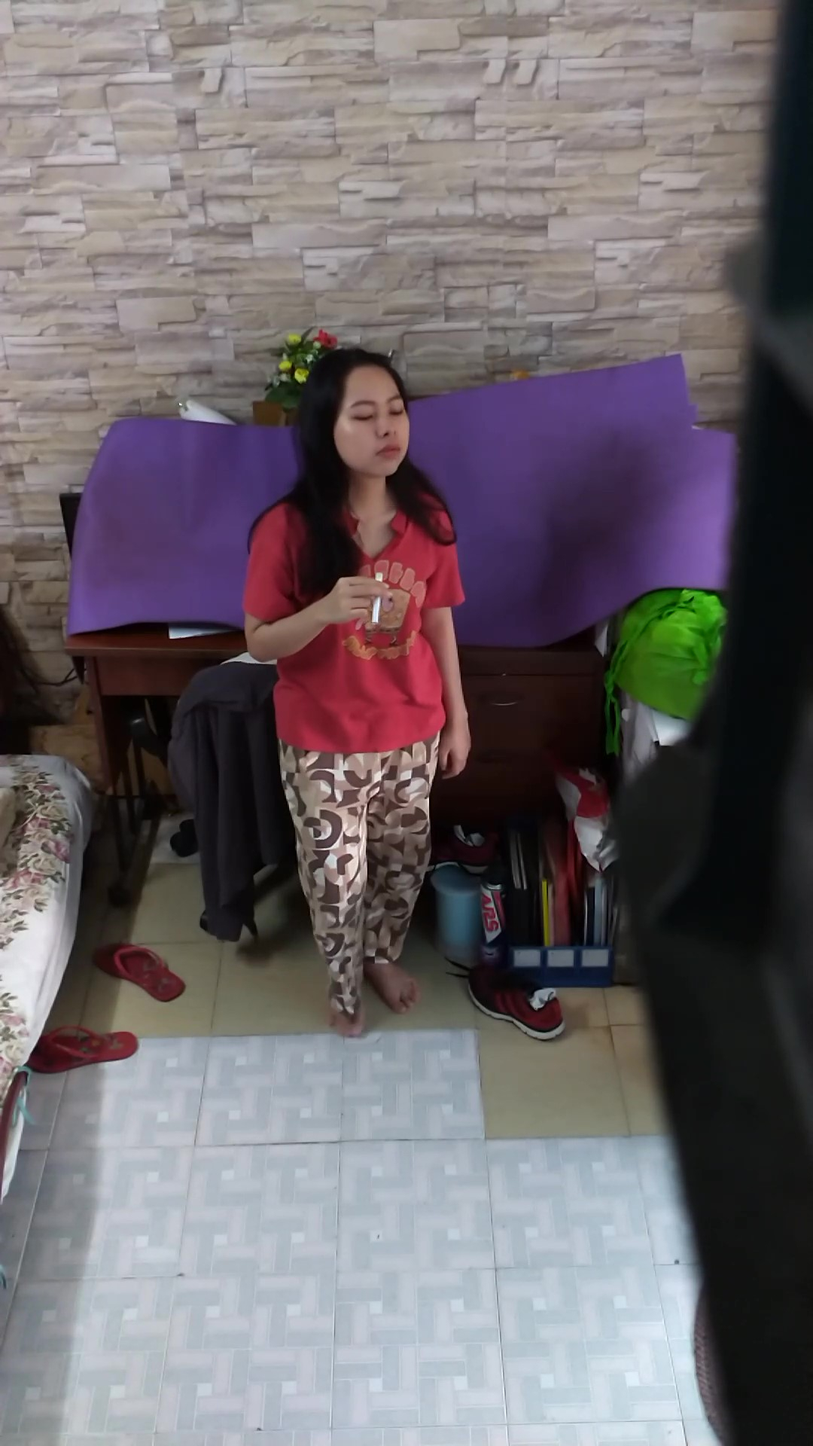cigarette: (366, 597, 386, 630)
person: (242, 337, 476, 1055)
